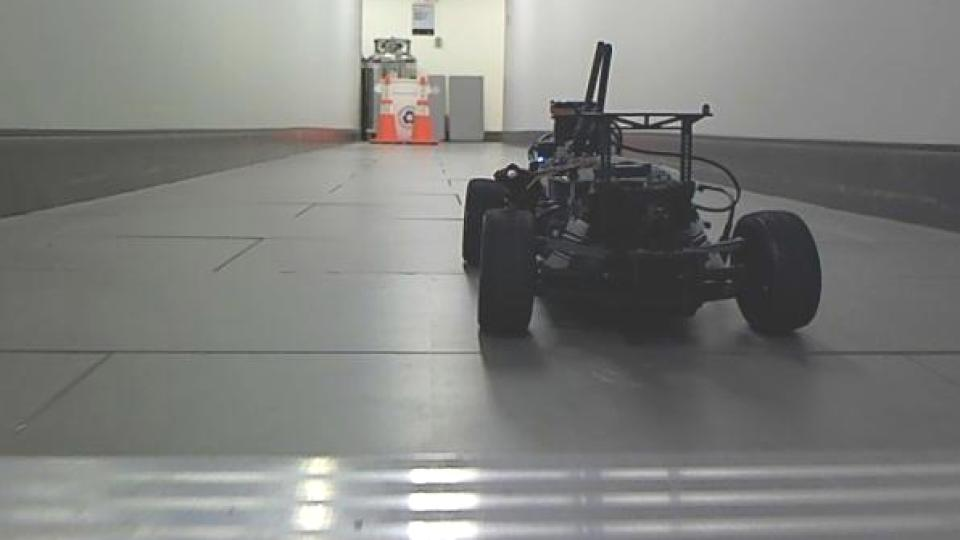car: (459, 39, 826, 343)
